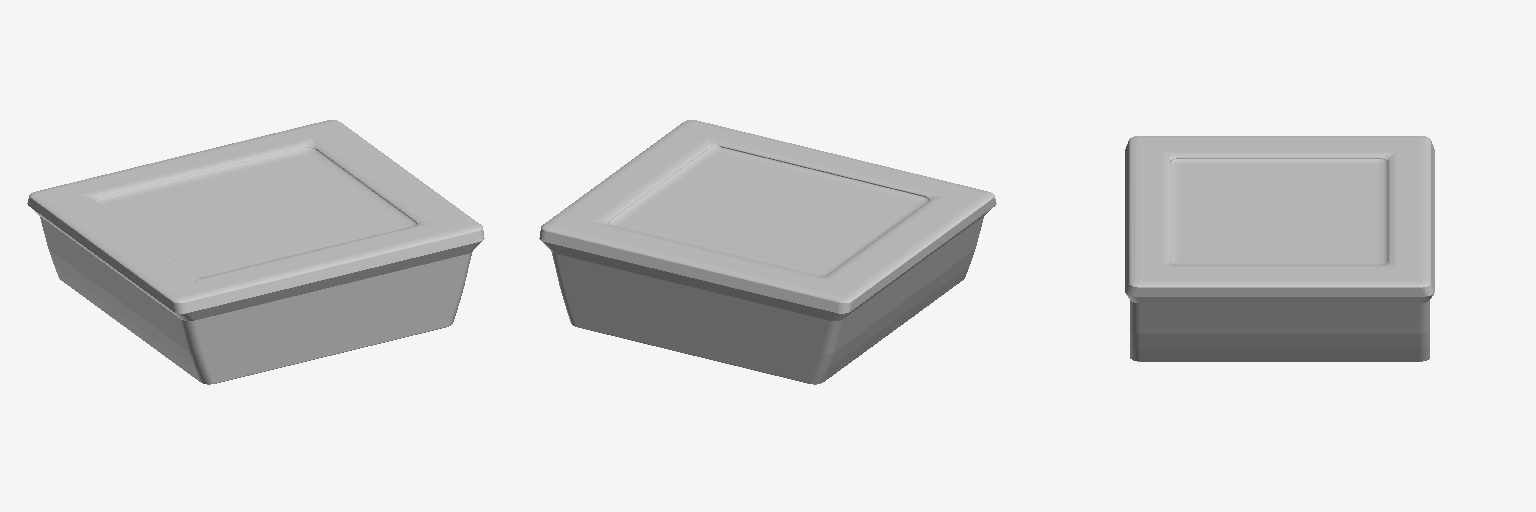
The model's file is Tupper.obj.
3 renders of one model, left to right at view 1: azimuth 30°, elevation 25°; view 2: azimuth 150°, elevation 25°; view 3: azimuth 270°, elevation 25°, orthographic.
Parts seen in each view (by area): view 1: Tupper; view 2: Tupper; view 3: Tupper.
Part boxes in pixels (x1,y1,x2,y2): Tupper: (27, 120, 484, 384); Tupper: (539, 120, 996, 384); Tupper: (1125, 136, 1434, 361).
Size of the model in its own units: 2.39 by 0.6841 by 2.06.